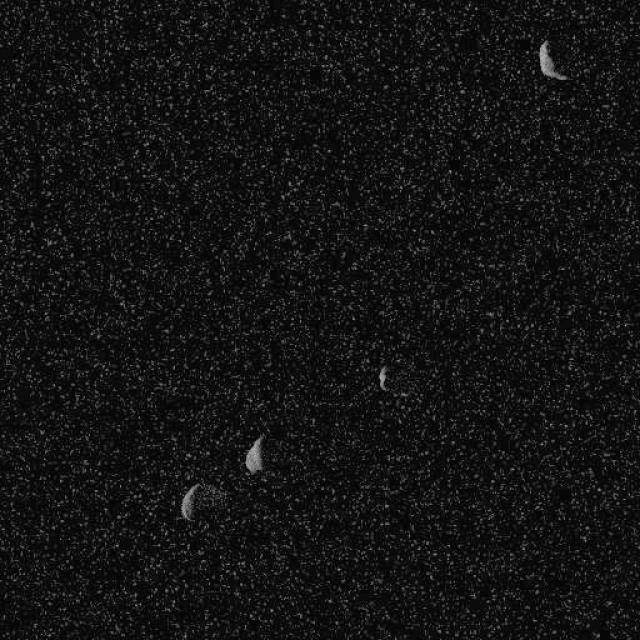D2: (538, 39, 570, 81), (180, 481, 202, 521), (244, 434, 265, 474), (376, 364, 390, 391)
